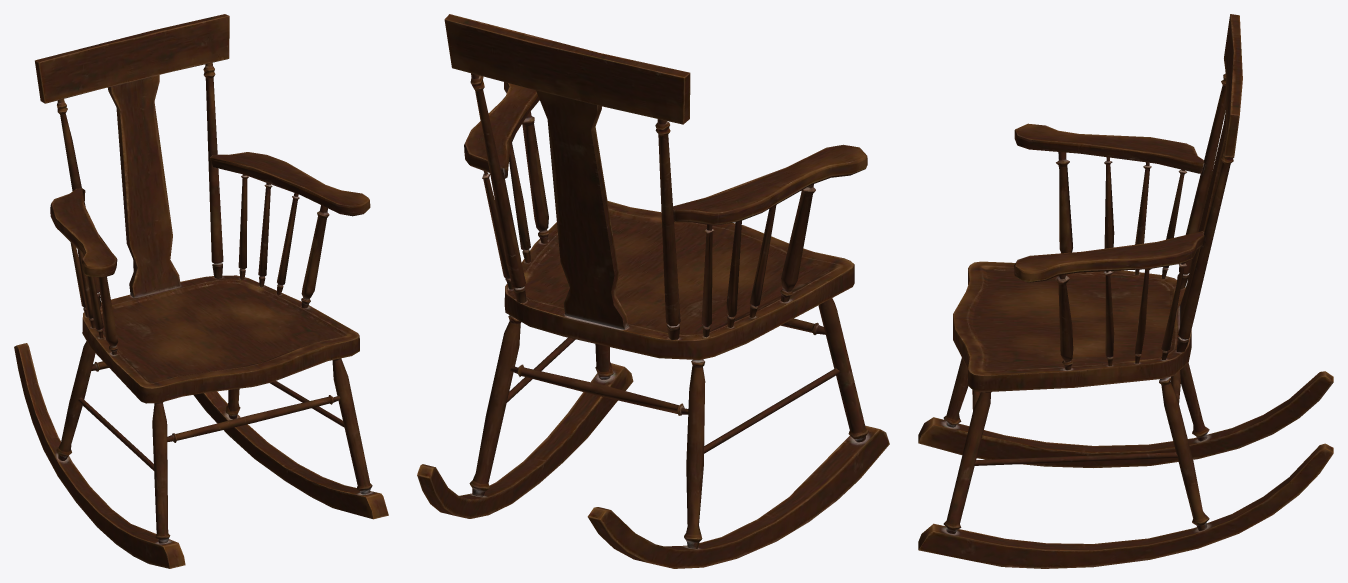
File: Rockingchair_01.glb
3 views of the same model, side by side, from view 1: azimuth 30°, elevation 25°; view 2: azimuth 150°, elevation 25°; view 3: azimuth 270°, elevation 25° (orthographic). The views are drawn at different scales.
Parts seen in each view (by area): view 1: Rockingchair_01; view 2: Rockingchair_01; view 3: Rockingchair_01.
Boxes of the visible parts, x1,y1,x2,y2 form: Rockingchair_01: [14, 14, 388, 568]; Rockingchair_01: [417, 14, 889, 568]; Rockingchair_01: [918, 14, 1333, 568].
Size of the model in its own units: 0.7081 by 0.9949 by 0.8335.
1 material, 1 textured.
